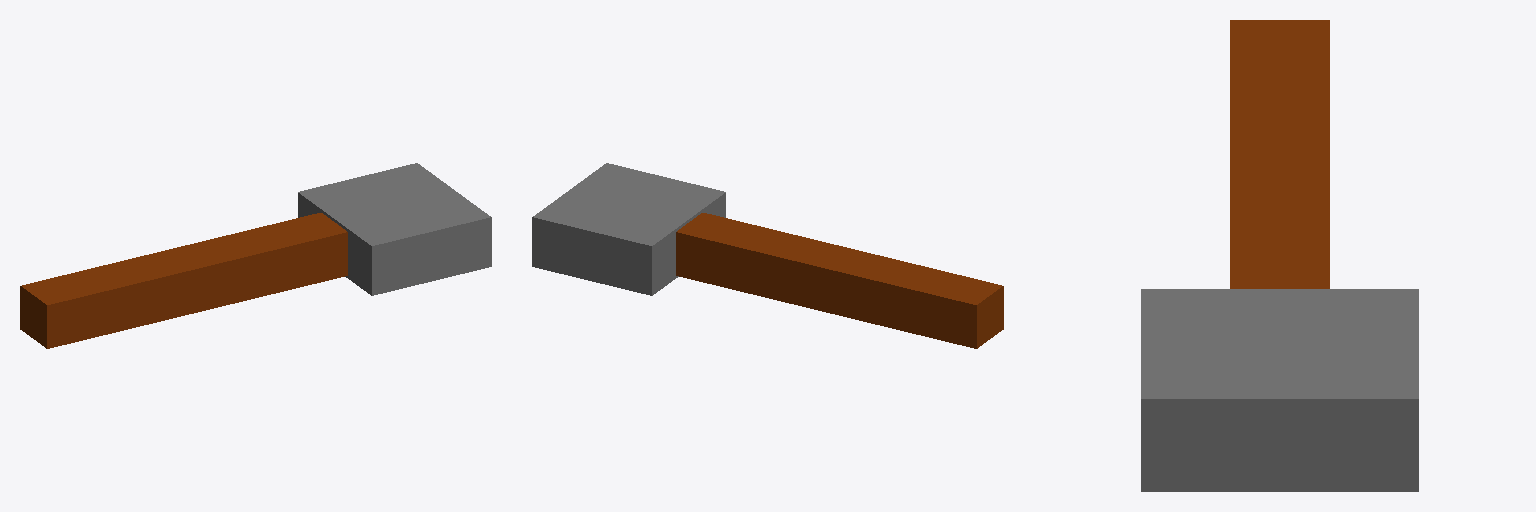
URDF robot description (cuboid_brush_v10009):
<?xml version="1.0"?>
<robot name="cuboid_brush_v10009">

  <link name="cuboid_brush_v10009">
    <!-- Handle -->
    <visual>
      <origin xyz="0 0 0" rpy="0 0 0"/>
      <geometry>
        <box size="0.17778997366921984 0.027526835801836548 0.024702588550392666"/>
      </geometry>
      <material name="brown">
        <color rgba="0.55 0.27 0.07 1.0"/>
      </material>
    </visual>
    <collision>
      <origin xyz="0 0 0" rpy="0 0 0"/>
      <geometry>
        <box size="0.17778997366921984 0.027526835801836548 0.024702588550392666"/>
      </geometry>
    </collision>

    <!-- Head -->
    <visual>
      <origin xyz="0.12425613703646082 0 0" rpy="0 0 0"/>
      <geometry>
        <box size="0.07072230040370181 0.0759876845961794 0.02809709928853068"/>
      </geometry>
      <material name="gray">
        <color rgba="0.5 0.5 0.5 1.0"/>
      </material>
    </visual>
    <collision>
      <origin xyz="0.12425613703646082 0 0" rpy="0 0 0"/>
      <geometry>
        <box size="0.07072230040370181 0.0759876845961794 0.02809709928853068"/>
      </geometry>
    </collision>

    <inertial>
      <density value="400.0"/>
    </inertial>
  </link>

</robot>

--- Render facts (derived) ---
Views: 3 orthographic renders of the robot side by side, from view 1: azimuth 30°, elevation 25°; view 2: azimuth 150°, elevation 25°; view 3: azimuth 270°, elevation 25°.
Robot: cuboid_brush_v10009 — 1 links, 0 joints (none); root link cuboid_brush_v10009; default pose: every joint at zero.
Visible links, largest first — view 1: cuboid_brush_v10009; view 2: cuboid_brush_v10009; view 3: cuboid_brush_v10009.
Link boxes in pixels (<box>): cuboid_brush_v10009: <box>20,163,491,348</box>; cuboid_brush_v10009: <box>532,163,1003,348</box>; cuboid_brush_v10009: <box>1141,20,1418,491</box>.
Size in the robot's own frame: 0.2485 by 0.076 by 0.0281 metres.
Geometry: primitives only (box / cylinder / sphere), no mesh files.
